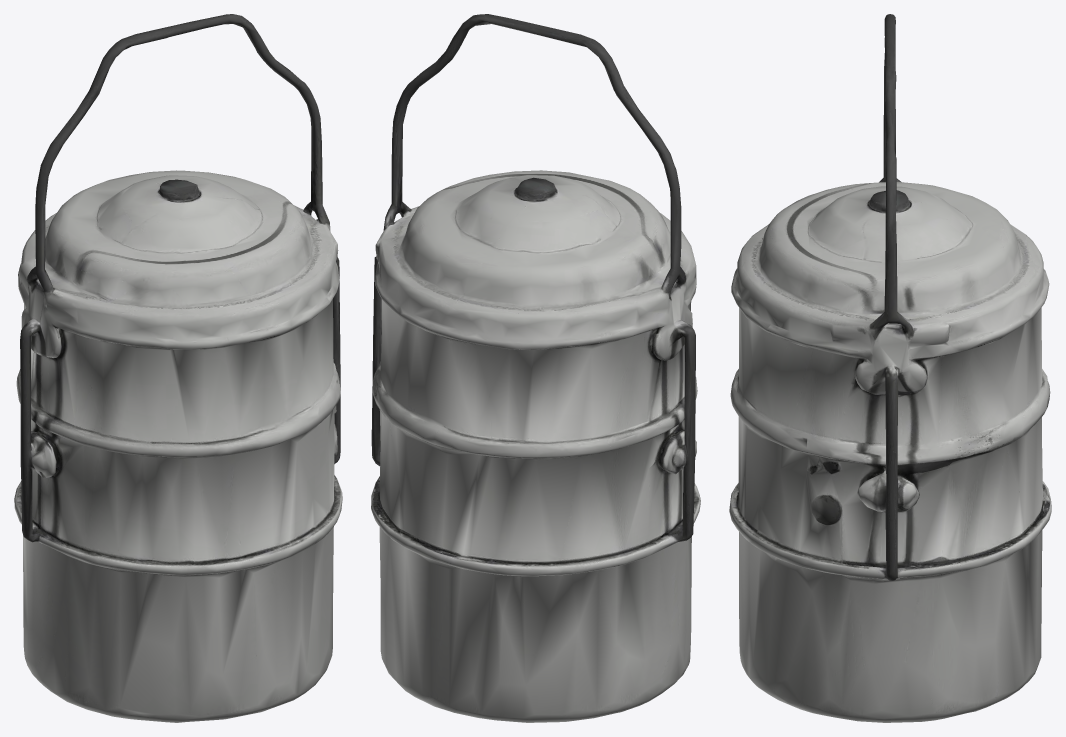
3 renders of one model, left to right at view 1: azimuth 30°, elevation 25°; view 2: azimuth 150°, elevation 25°; view 3: azimuth 270°, elevation 25°, orthographic. The views are drawn at different scales.
Bounding box in the file's own units: 1.05 × 2 × 0.9337.
Materials: 1 (1 with a texture image).
